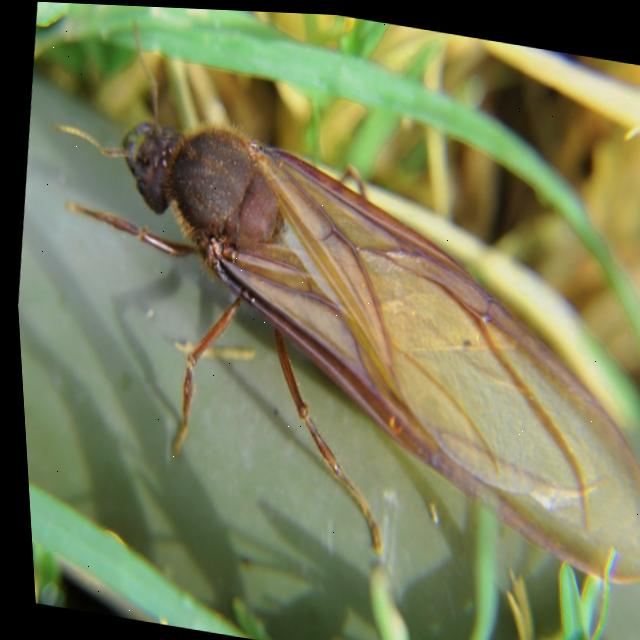Alive-Female-Alate: (0, 10, 640, 592)
